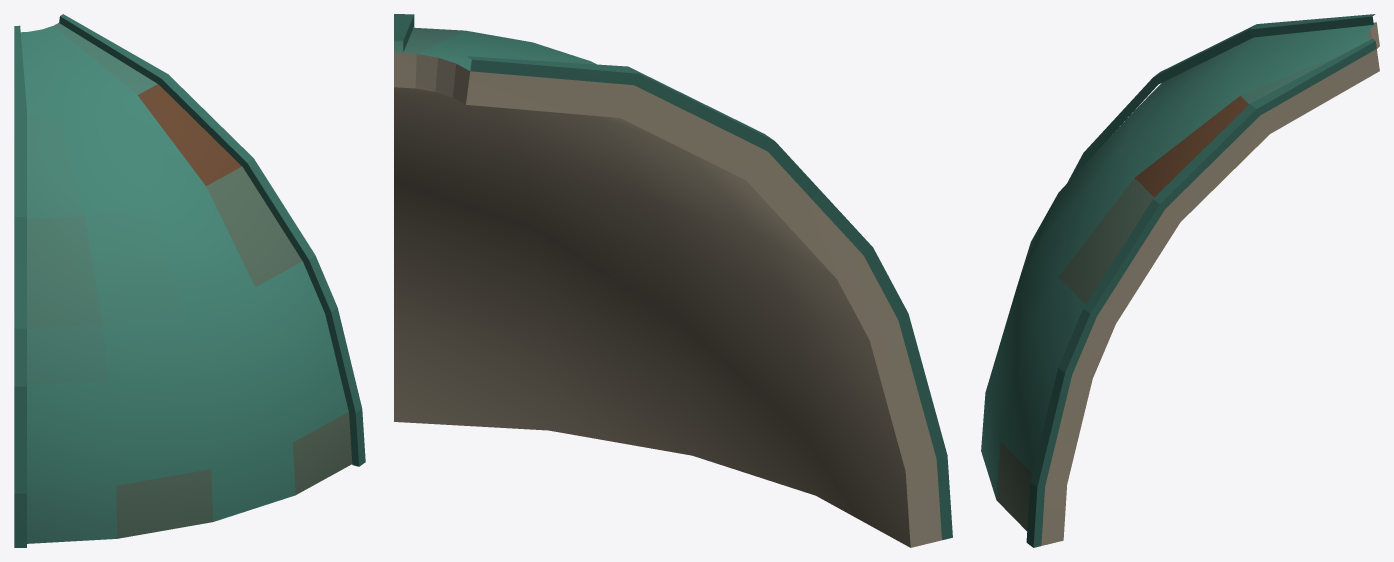
Rendered from dome.panel_6.copper.glb.
The picture shows the model from 3 angles, left to right: view 1: azimuth 30°, elevation 25°; view 2: azimuth 150°, elevation 25°; view 3: azimuth 270°, elevation 25°; orthographic projection. The views are drawn at different scales.
Visible parts, largest first — view 1: dome_panel_6_copper; view 2: dome_panel_6_copper; view 3: dome_panel_6_copper.
Boxes of the visible parts, x1=… form: dome_panel_6_copper: x1=14, y1=14, x2=365, y2=547; dome_panel_6_copper: x1=394, y1=14, x2=952, y2=547; dome_panel_6_copper: x1=981, y1=14, x2=1379, y2=547.
Size of what is drawn, in the model's own units: 3.57 by 3.63 by 3.1.
